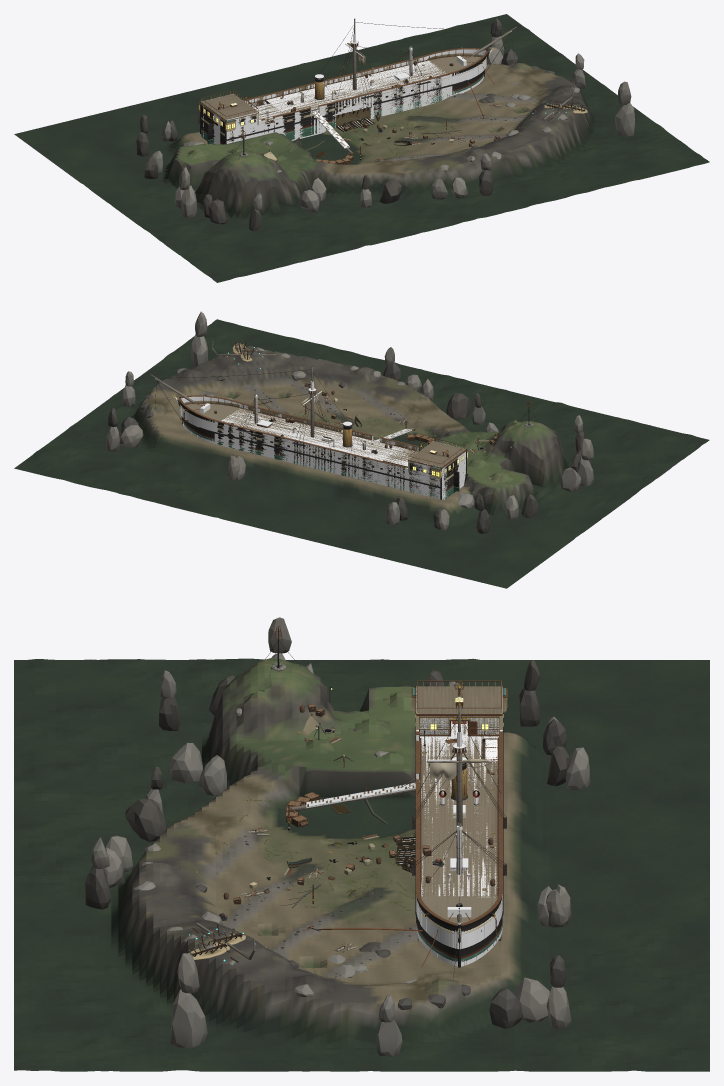
File: wreck.glb
The picture shows the model from 3 angles, top to bottom: view 1: azimuth 30°, elevation 25°; view 2: azimuth 150°, elevation 25°; view 3: azimuth 270°, elevation 25°; orthographic projection. The views are drawn at different scales.
Parts seen in each view (by area): view 1: terrain, COL_hull, ship_hull, COL_deck, ship_deck, ship_rig, ship_castle, ship_hold, COL_fittings, rock_050, rock_042; view 2: terrain, COL_hull, ship_hull, ship_deck, COL_deck, ship_rig, ship_castle, rock_008, COL_fittings, rock_050, rock_031; view 3: terrain, ship_deck, ship_hull, ship_castle, COL_deck, ship_rig, COL_hull, rock_050, rock_008, COL_fittings, rock_031, rock_002 (+9 smaller).
Part boxes in pixels (box(x1,y1,x2,y2)): terrain: box(14, 14, 709, 282); COL_hull: box(201, 49, 486, 143); ship_hull: box(198, 47, 489, 144); COL_deck: box(253, 56, 480, 121); ship_deck: box(245, 49, 482, 124); ship_rig: box(300, 18, 516, 102); ship_castle: box(201, 90, 258, 119); ship_hold: box(250, 100, 374, 132); COL_fittings: box(301, 31, 511, 102); rock_050: box(615, 103, 634, 136); rock_042: box(181, 185, 196, 218); terrain: box(14, 319, 709, 588); COL_hull: box(180, 396, 465, 499); ship_hull: box(177, 394, 468, 499); ship_deck: box(184, 397, 420, 466); COL_deck: box(186, 403, 413, 466); ship_rig: box(150, 366, 365, 449); ship_castle: box(408, 438, 465, 467); rock_008: box(446, 393, 470, 419); COL_fittings: box(155, 378, 366, 450); rock_050: box(191, 334, 207, 366); rock_031: box(119, 425, 143, 448); terrain: box(14, 658, 709, 1071); ship_deck: box(416, 721, 499, 923); ship_hull: box(411, 686, 507, 967); ship_castle: box(416, 680, 502, 743); COL_deck: box(419, 721, 498, 923); ship_rig: box(412, 705, 506, 979); COL_hull: box(416, 686, 502, 966); rock_050: box(170, 989, 207, 1048); rock_008: box(125, 798, 167, 841); COL_fittings: box(428, 731, 490, 924); rock_031: box(514, 977, 549, 1022); rock_002: box(170, 742, 202, 783).
Size of the model in its own units: 140 by 28.44 by 100.
